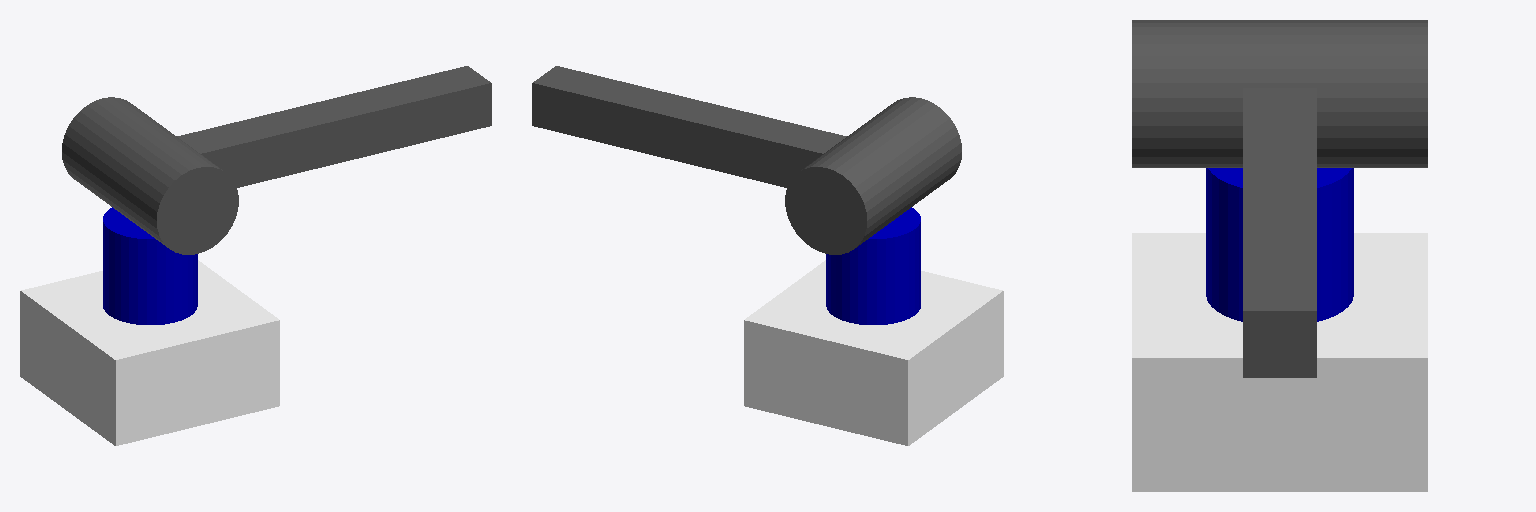
The robot description file, URDF, robot "simple_robot":
<?xml version="1.0"?>
<robot name="simple_robot">
	
<!-- Definición de materiales -->
	
  <material name="blue">
    <color rgba="0 0 0.8 1"/>
  </material>

  <material name="white">
    <color rgba="1 1 1 1"/>
  </material>
  
  <material name="l_gray">
    <color rgba="0.4 0.4 0.4 1"/>
  </material>

<!-- Definición de links y joints -->

<!-- link base, primer elemento y primera articulación -->
  <link name="base_link">
    <visual>
      <geometry>
		<box size="1 1 0.5"/>
      </geometry>
      <material name="white"/>
      <origin xyz="0 0 0.25"/>
    </visual>
  </link>

  <link name="link1_2">
    <visual>
      <geometry>
        <cylinder length="0.5" radius="0.25"/>
      </geometry>
      <material name="blue"/>
      <origin rpy="0 0 0" xyz="0 0 0"/>
    </visual>
  </link>

  <joint name="J1" type="continuous">
    <parent link="base_link"/>
    <child link="link1_2"/>
    <origin xyz="0 0 0.75"/>
     <axis xyz="0 0 1" />
  </joint>
  
 <!-- Segundo elemento (1-2) y segunda articulación -->
 
  <link name="link2_1">
	  <visual>
		  <geometry>
			  <cylinder length="1" radius="0.25"/>
		  </geometry>
		  <material name="l_gray"/>
		  <origin rpy="0 0 0" xyz="0 0 0"/>
	  </visual>
  </link>
  
  <link name ="link2_2">
	 <visual>
		 <geometry>
			 <box size="2 0.25 0.25"/>
		 </geometry>
		 <material name="l_gray"/>
		 <origin rpy="0 0 0" xyz="-1 0 0"/>
	 </visual>
 </link>

  <joint name="EL2" type="fixed">
	<parent link="link2_1"/>
    <child link="link2_2"/>
    <origin rpy="0 0 0" xyz="2 0 0"/>
    <axis xyz="0 0 1"/>
  </joint>
  
  <joint name="J2" type="continuous">
	<parent link="link1_2"/>
    <child link="link2_1"/>
    <origin rpy="1.570796 0 0" xyz="0 0 0.5"/>
    <axis xyz="0 0 1"/>
  </joint>
 



</robot>

--- Render facts (derived) ---
3 views of the same robot in one strip: view 1: azimuth 30°, elevation 25°; view 2: azimuth 150°, elevation 25°; view 3: azimuth 270°, elevation 25° (orthographic).
Model simple_robot with 4 links and 3 joints (2 continuous, 1 fixed), rooted at base_link, posed all joints at 0.
Links seen in each view (by area): view 1: base_link, link2_2, link2_1, link1_2; view 2: base_link, link2_2, link2_1, link1_2; view 3: base_link, link2_1, link2_2, link1_2.
Link boxes in pixels (x1,y1,x2,y2): base_link: (20, 260, 279, 445); link2_2: (177, 66, 491, 187); link2_1: (62, 97, 238, 254); link1_2: (103, 207, 197, 324); base_link: (744, 260, 1003, 445); link2_2: (532, 66, 846, 187); link2_1: (785, 97, 961, 254); link1_2: (826, 207, 920, 324); base_link: (1132, 233, 1427, 491); link2_1: (1132, 20, 1427, 167); link2_2: (1243, 88, 1316, 377); link1_2: (1206, 168, 1353, 321).
Bounding box of the posed robot: 2.5 × 1 × 1.5 m (x, y, z).
Geometry: primitives only (box / cylinder / sphere), no mesh files.